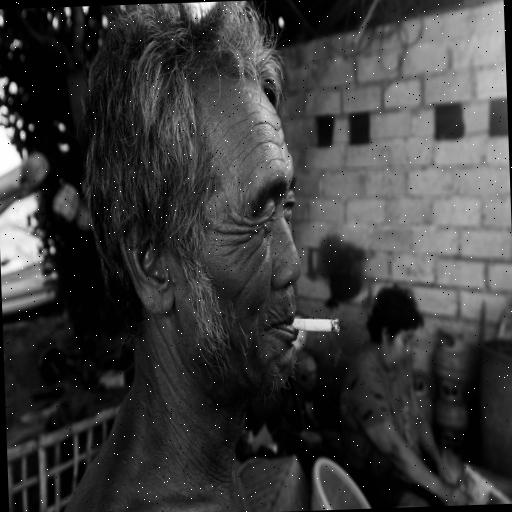merokok: (226, 140, 352, 390)
